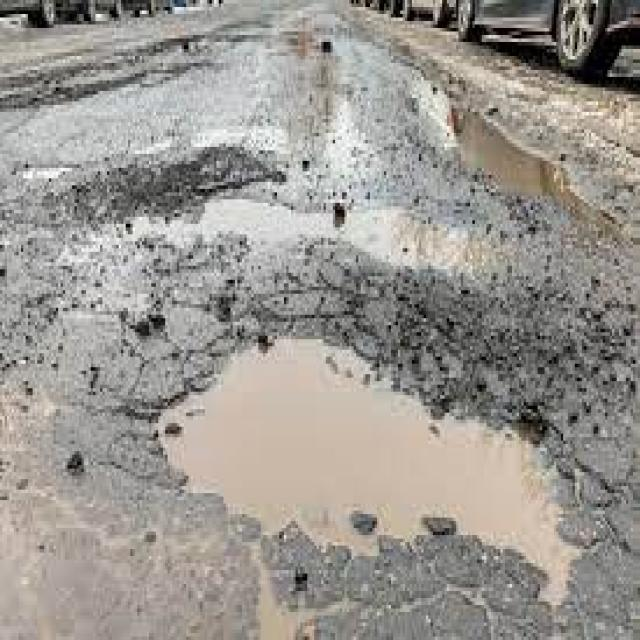Pothole: (156, 339, 582, 619)
